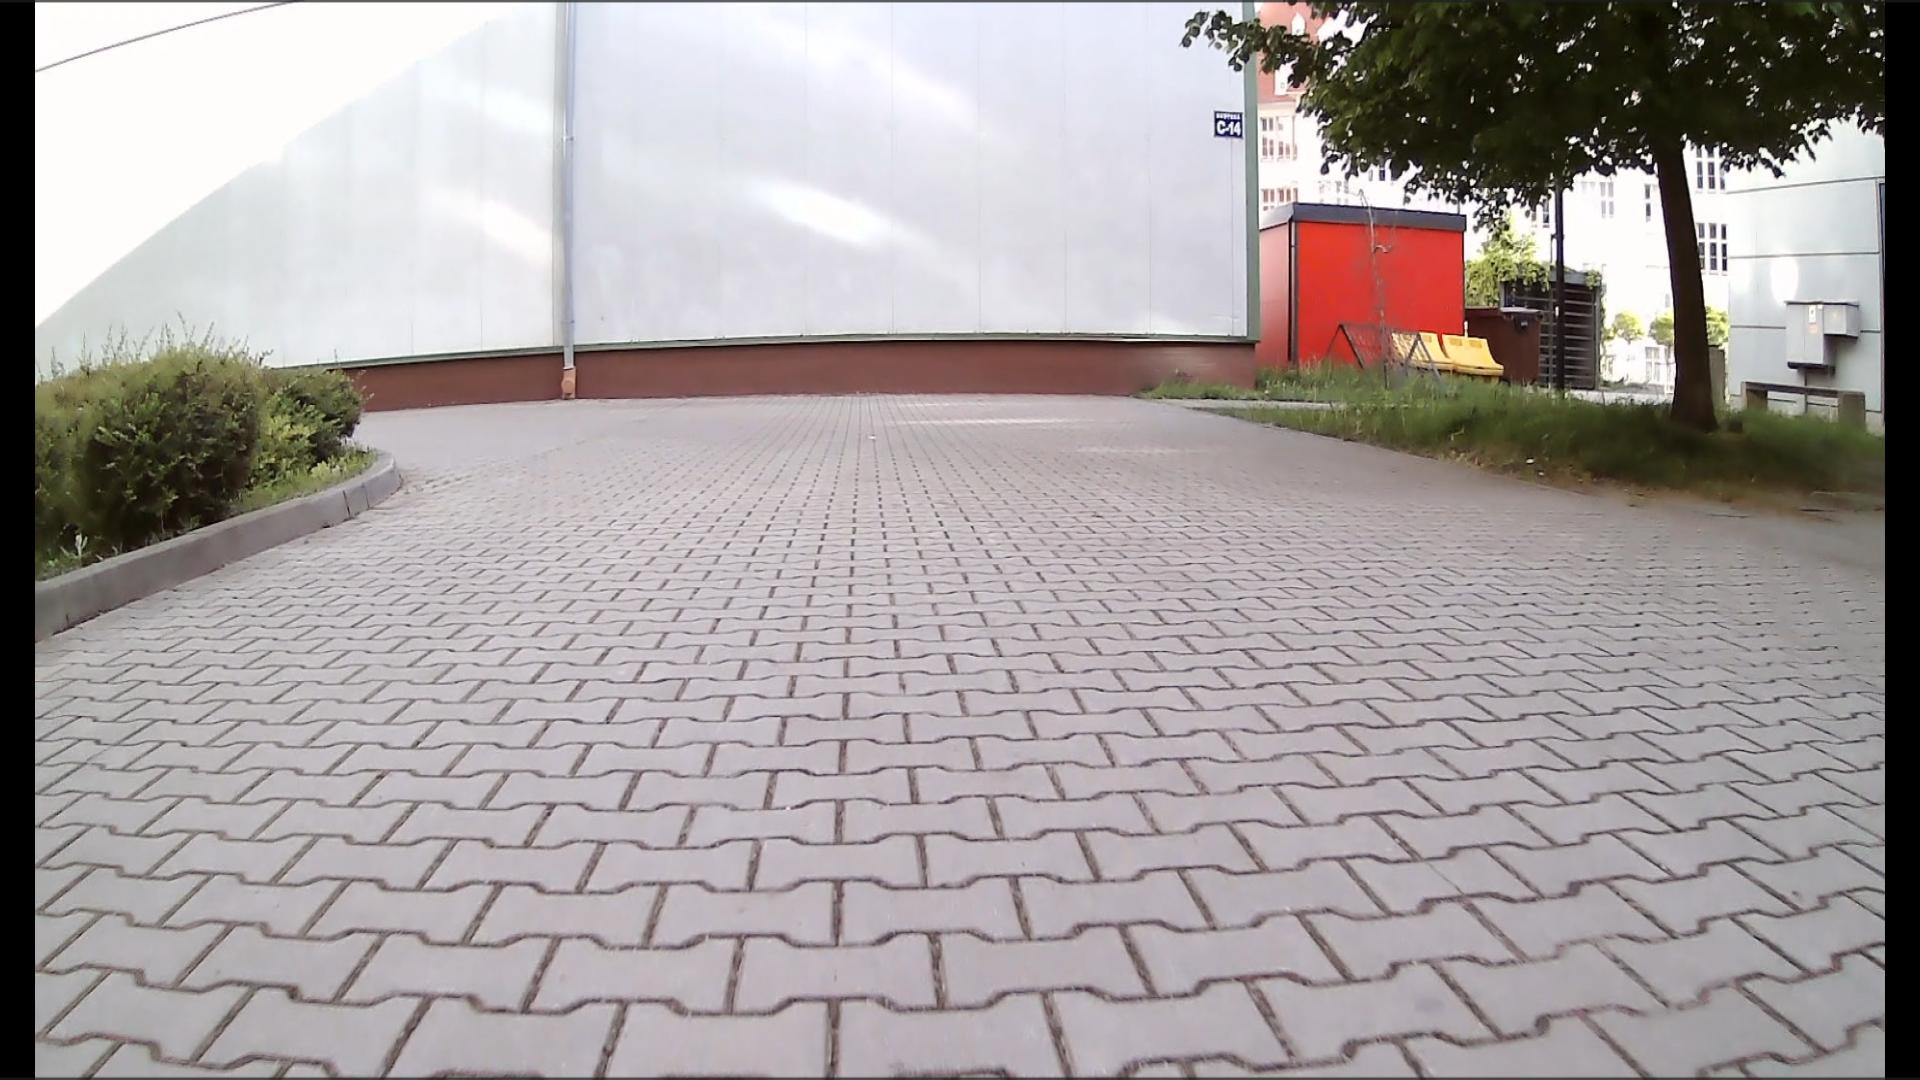wall: (584, 73, 1254, 394)
